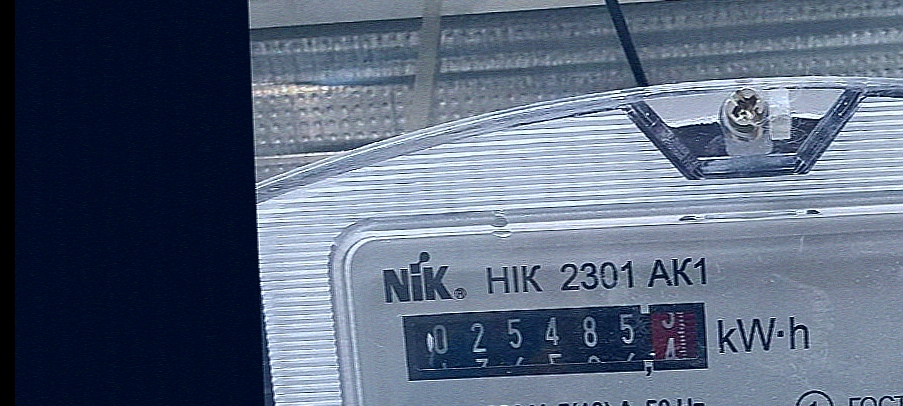0: (430, 318, 452, 354)
2: (469, 317, 490, 353)
4: (541, 311, 564, 346), (661, 332, 682, 361)
5: (616, 308, 639, 346), (504, 312, 526, 348)
8: (580, 309, 602, 348)
screen: (394, 292, 718, 391)
